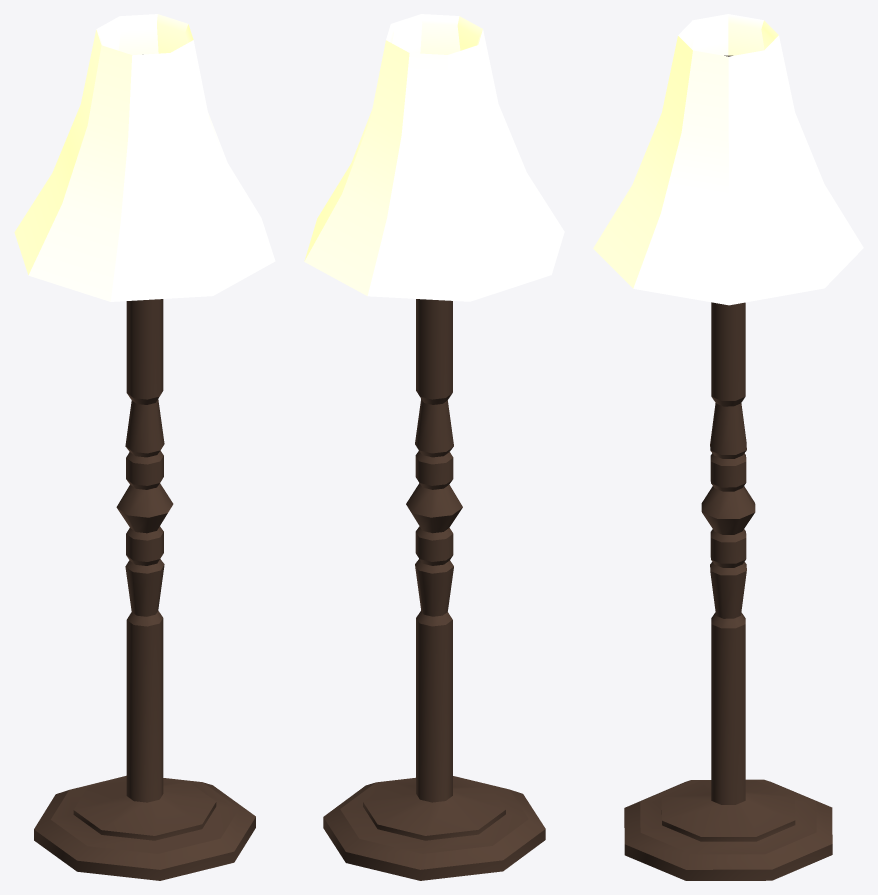
Rendered from S_FloorLamp.fbx.
3 views of the same model, side by side, from view 1: azimuth 30°, elevation 25°; view 2: azimuth 150°, elevation 25°; view 3: azimuth 270°, elevation 25° (orthographic).
Visible parts, largest first — view 1: S_FloorLamp; view 2: S_FloorLamp; view 3: S_FloorLamp.
Boxes of the visible parts, bbox=[...] form: S_FloorLamp: bbox=[14, 14, 275, 880]; S_FloorLamp: bbox=[304, 14, 564, 880]; S_FloorLamp: bbox=[593, 14, 863, 880].
Size of the model in its own units: 50.56 by 165 by 50.56.
